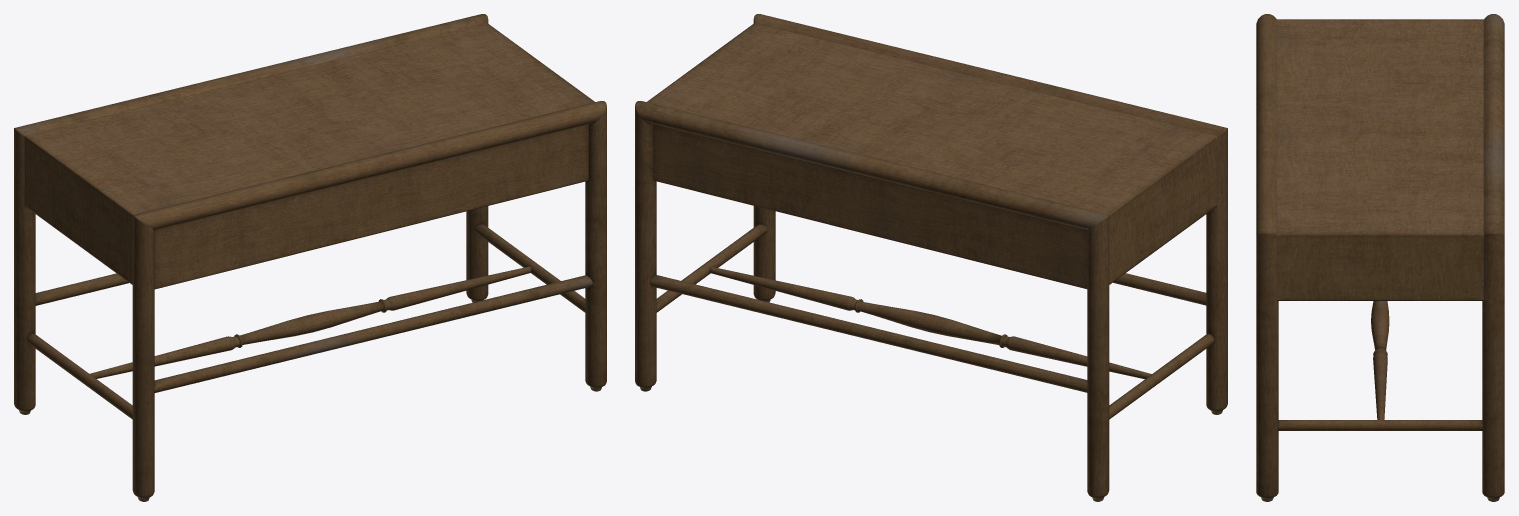
File: ph_small_wooden_table_01.glb
3 views of the same model, side by side, from view 1: azimuth 30°, elevation 25°; view 2: azimuth 150°, elevation 25°; view 3: azimuth 270°, elevation 25° (orthographic). The views are drawn at different scales.
Visible parts, largest first — view 1: ph_small_wooden_table_01; view 2: ph_small_wooden_table_01; view 3: ph_small_wooden_table_01.
Part boxes in pixels (box(x1,y1,x2,y2)): ph_small_wooden_table_01: box(14, 14, 606, 501); ph_small_wooden_table_01: box(635, 14, 1227, 501); ph_small_wooden_table_01: box(1256, 14, 1504, 501).
Size of the model in its own units: 0.9162 by 0.5331 by 0.44.
1 material, 1 textured.
